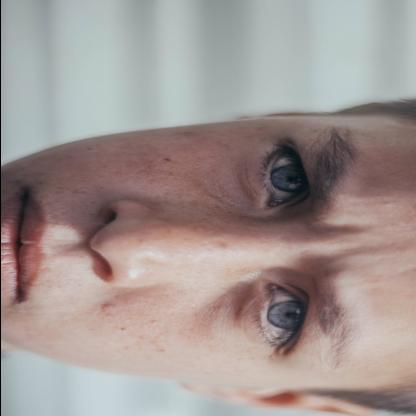Eye: (235, 278, 311, 358), (248, 139, 311, 216)
Mouth: (0, 183, 49, 305)
Nose: (87, 198, 278, 288)
